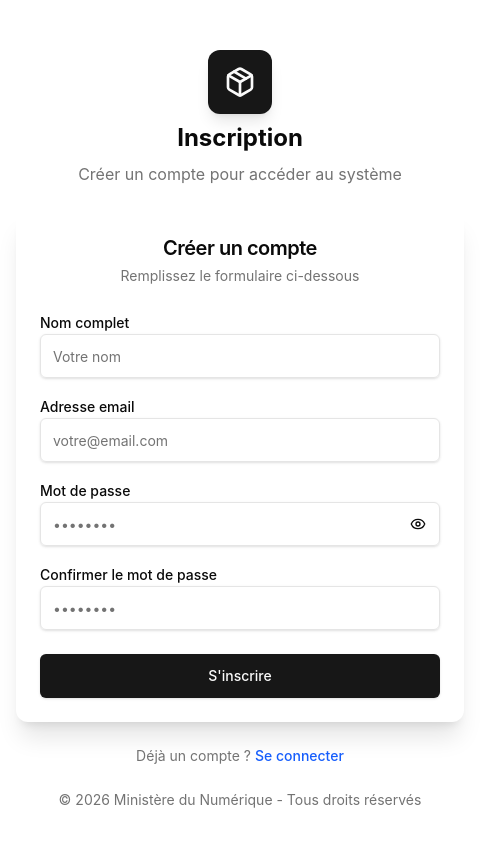
it: Register Component › handles server-side validation errors correctly
Type "Jean Dupont" into the field labelled "Nom complet".
click(240, 356); type("Jean Dupont")  # box [40,334,440,378]
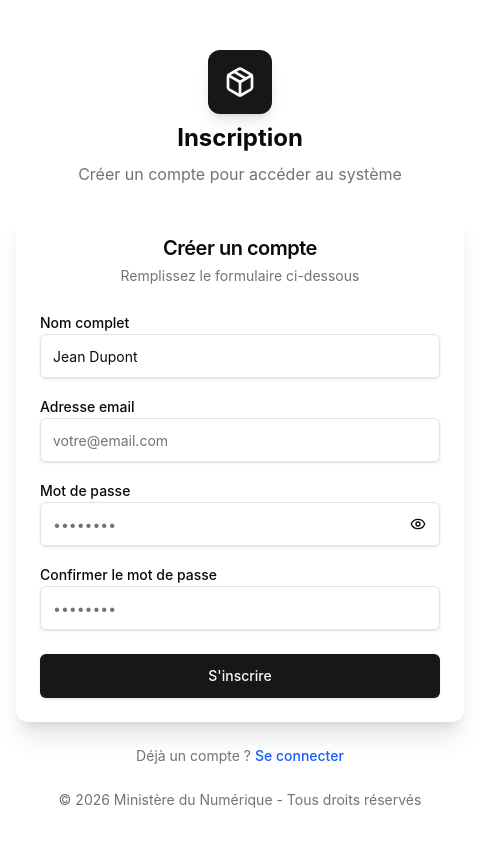
Type "used@example.com" into the field labelled "Adresse email".
click(240, 440); type("used@example.com")  # box [40,418,440,462]
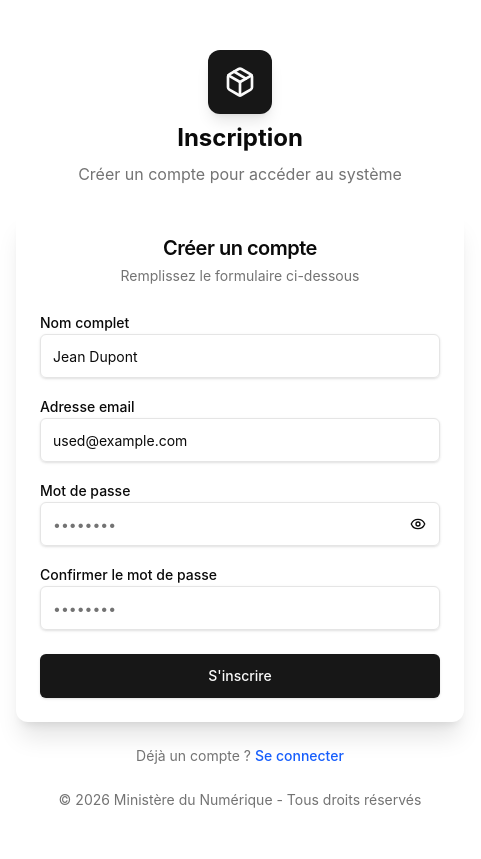
Type "StrongP@ssw0rd!" into the password field labelled "Mot de passe".
click(240, 524); type("StrongP@ssw0rd!")  # box [40,502,440,546]
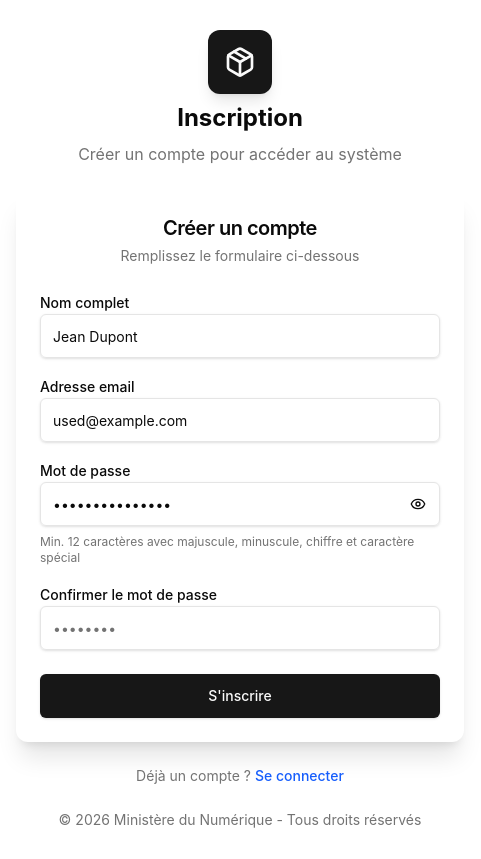
Type "StrongP@ssw0rd!" into the password field labelled "Confirmer le mot de passe".
click(240, 628); type("StrongP@ssw0rd!")  # box [40,606,440,650]
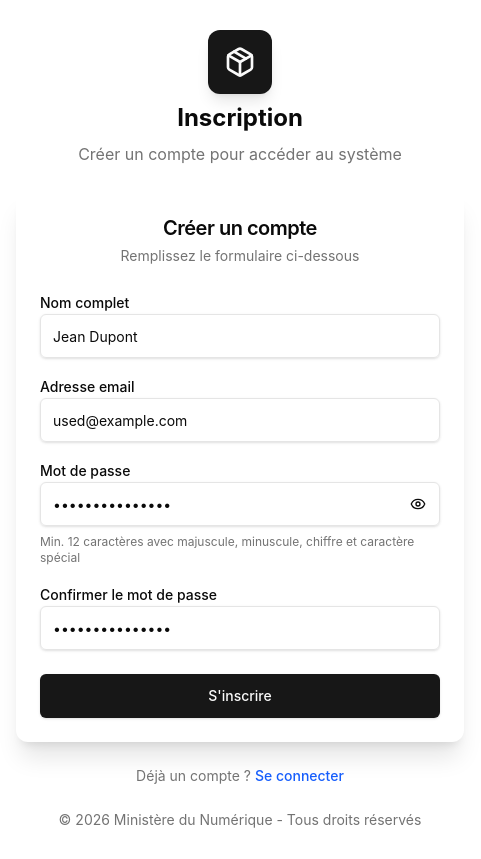
Submit the form named "S'inscrire", box [16,290,464,742]
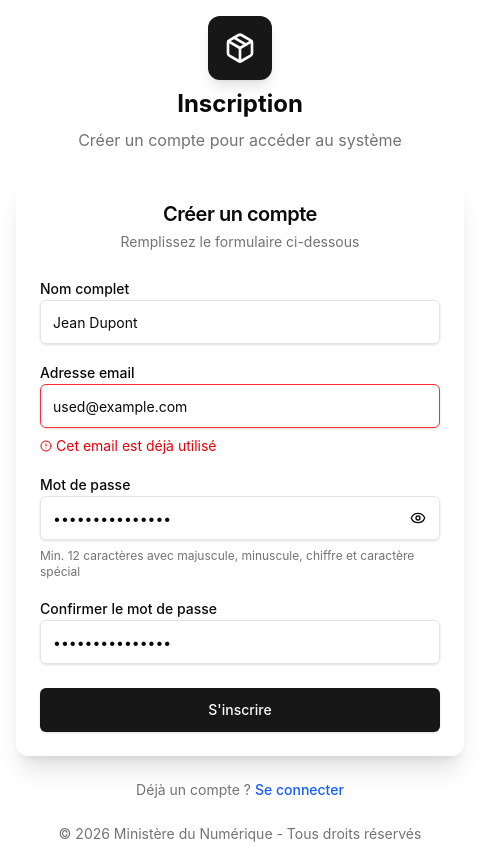
Check: the text "Cet email est déjà utilisé" is shown, box [40,437,216,454]
